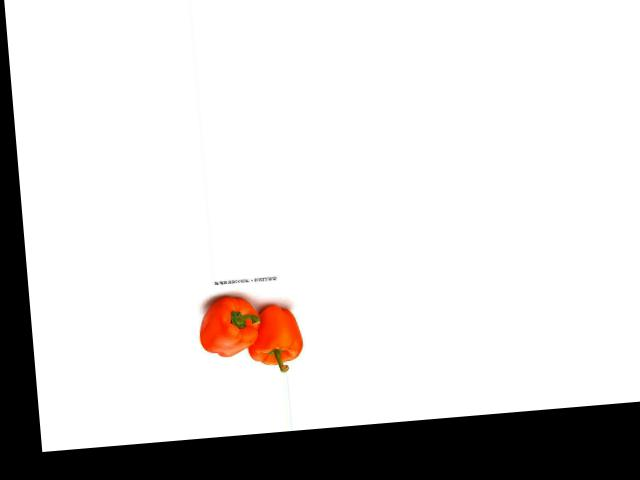bell_pepper: (194, 288, 265, 361)
